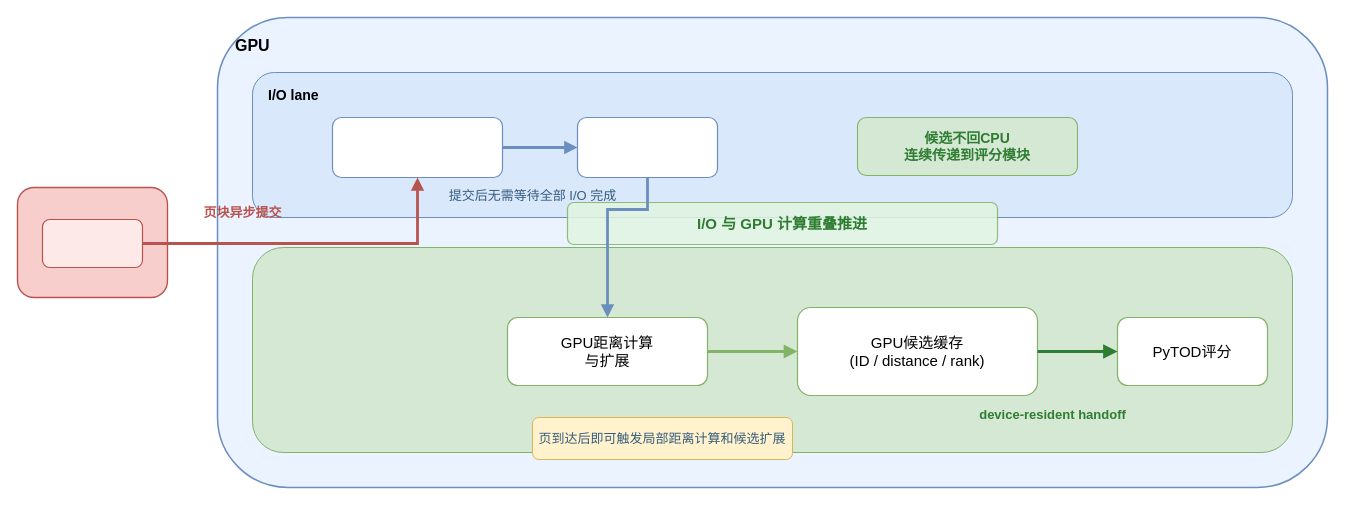
The diagram is 1346 pixels wide and 506 high, and some of its shapes have lost their labels. Each missing label, with the box of its shape:
Compute lane: (252, 246, 1292, 452)
GPU接收: (576, 116, 718, 178)
SSD读页: (41, 218, 143, 268)
异步I/O队列: (331, 116, 503, 178)
